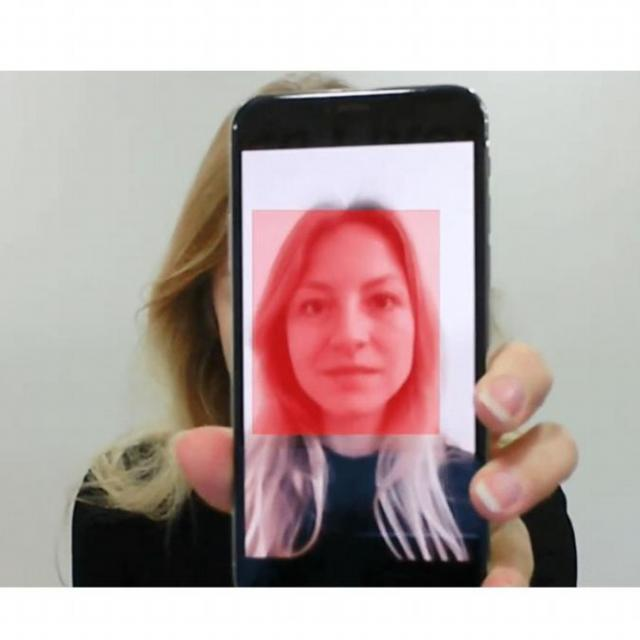device: (235, 89, 494, 585)
